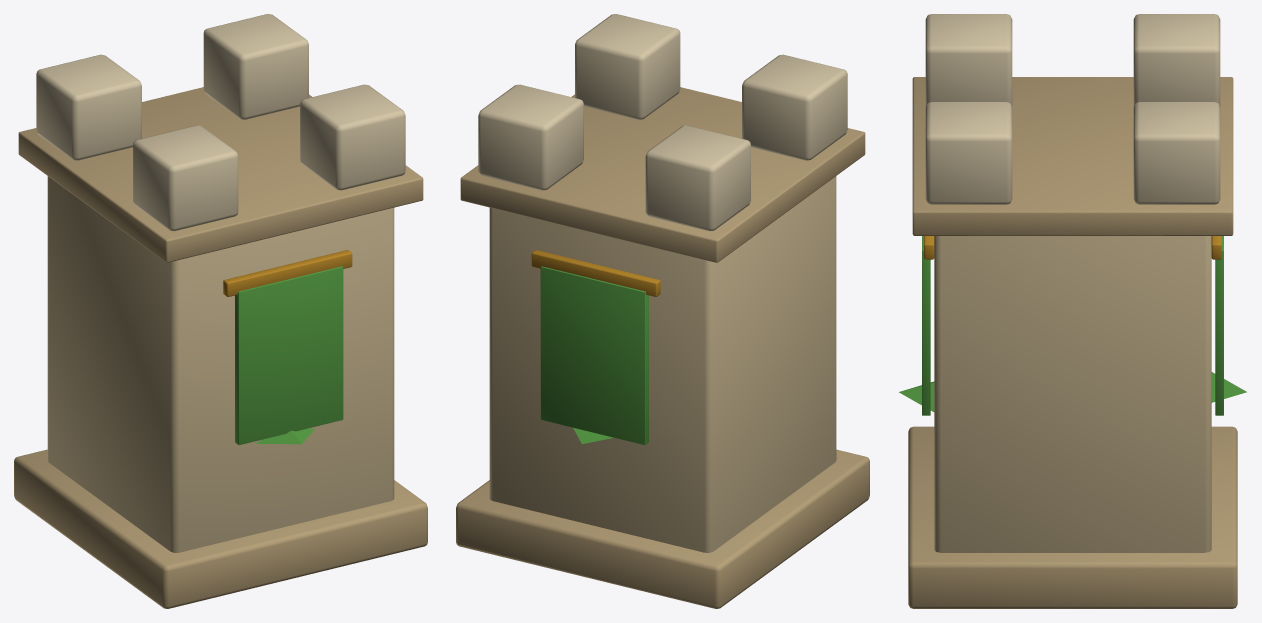
File: k_wall_post.glb
3 renders of one model, left to right at view 1: azimuth 30°, elevation 25°; view 2: azimuth 150°, elevation 25°; view 3: azimuth 270°, elevation 25°, orthographic. The views are drawn at different scales.
Visible parts, largest first — view 1: SK_k_wall_post; view 2: SK_k_wall_post; view 3: SK_k_wall_post.
Boxes of the visible parts, <box> form: SK_k_wall_post: <box>14,14,427,608</box>; SK_k_wall_post: <box>456,14,869,608</box>; SK_k_wall_post: <box>899,14,1246,608</box>.
Size of the model in its own units: 1.9 by 2.97 by 2.01.
